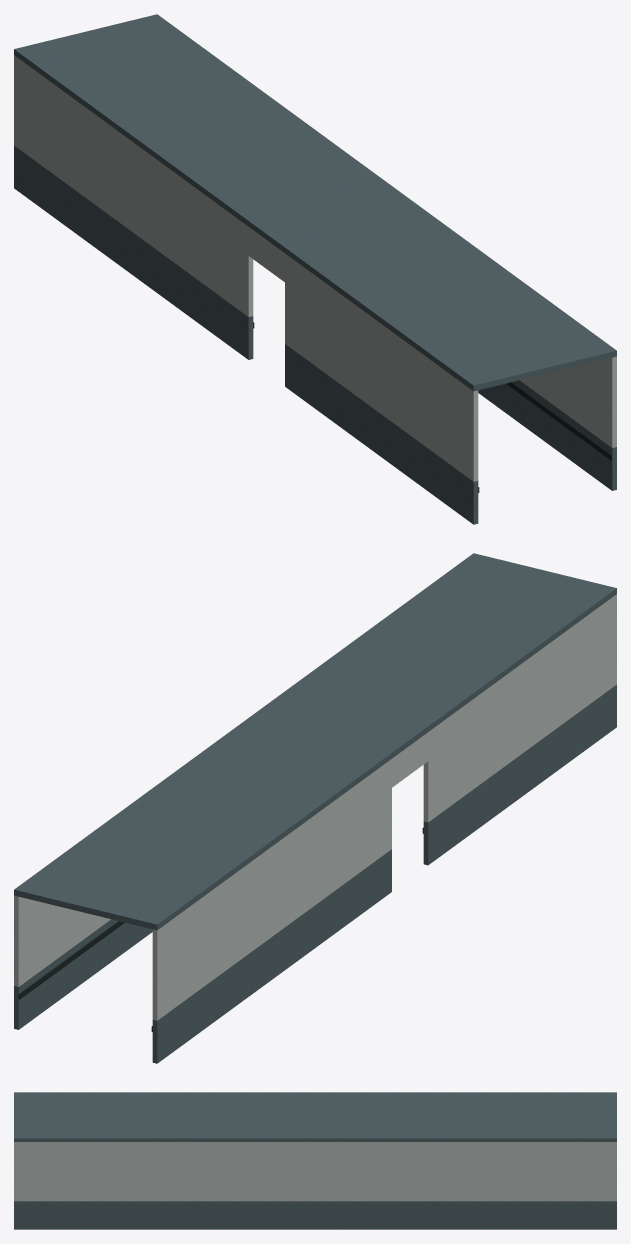
File: D04_STAFF_WALL_PORTAL_PATCH_r001.glb
3 views of the same model, one above another, from view 1: azimuth 30°, elevation 25°; view 2: azimuth 150°, elevation 25°; view 3: azimuth 270°, elevation 25° (orthographic). The views are drawn at different scales.
Parts seen in each view (by area): view 1: HOME_BATCH_015_ASTRAEA_staff_bluegrey_paint, HOME_BATCH_182_ASTRAEA_staff_white_paint, HOME_BATCH_132_ASTRAEA_staff_rubber; view 2: HOME_BATCH_015_ASTRAEA_staff_bluegrey_paint, HOME_BATCH_182_ASTRAEA_staff_white_paint, HOME_BATCH_132_ASTRAEA_staff_rubber; view 3: HOME_BATCH_015_ASTRAEA_staff_bluegrey_paint, HOME_BATCH_182_ASTRAEA_staff_white_paint.
Boxes of the visible parts, left/top/right/bottom form: HOME_BATCH_015_ASTRAEA_staff_bluegrey_paint: left=14, top=14, right=616, bottom=524; HOME_BATCH_182_ASTRAEA_staff_white_paint: left=14, top=55, right=616, bottom=481; HOME_BATCH_132_ASTRAEA_staff_rubber: left=253, top=322, right=612, bottom=492; HOME_BATCH_015_ASTRAEA_staff_bluegrey_paint: left=14, top=553, right=616, bottom=1063; HOME_BATCH_182_ASTRAEA_staff_white_paint: left=14, top=594, right=616, bottom=1020; HOME_BATCH_132_ASTRAEA_staff_rubber: left=18, top=827, right=423, bottom=1031; HOME_BATCH_015_ASTRAEA_staff_bluegrey_paint: left=14, top=1092, right=616, bottom=1229; HOME_BATCH_182_ASTRAEA_staff_white_paint: left=14, top=1142, right=616, bottom=1201.
Bounding box in the file's own units: 3.6 × 3.34 × 20.
Materials: 3 (3 with a texture image).
